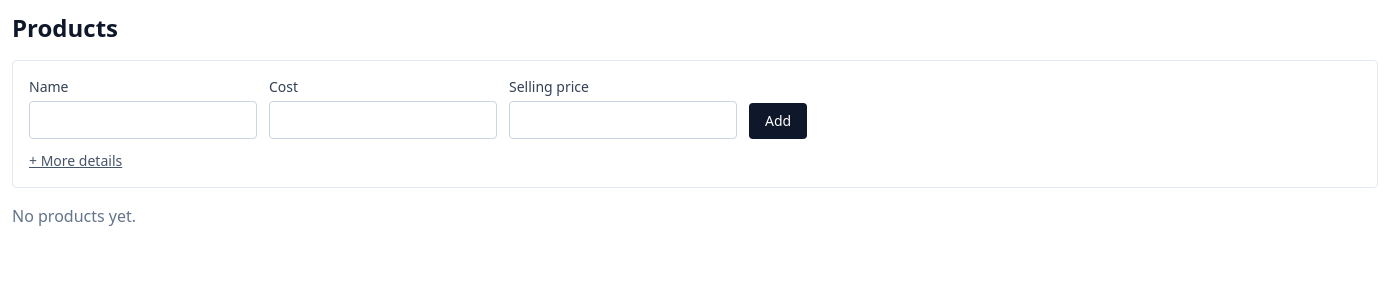
Test: ProductsListPage — inline add form › creates a product via the essentials-only form and shows the new row without a manual refetch
Expected: the text "No products yet." is shown, [12,205,136,227]
In the field labelled "Name": (143, 120) [29,101,257,139], type "Engraved keychain"
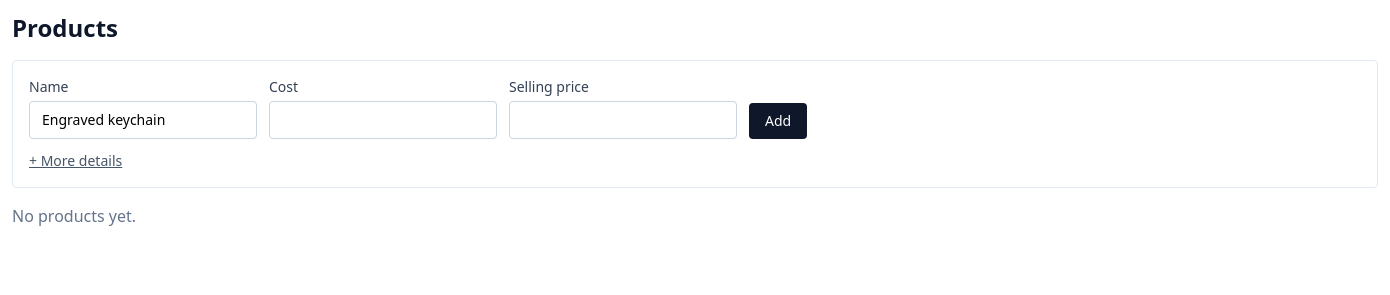
In the number field labelled "Cost": (383, 120) [269,101,497,139], type "30"
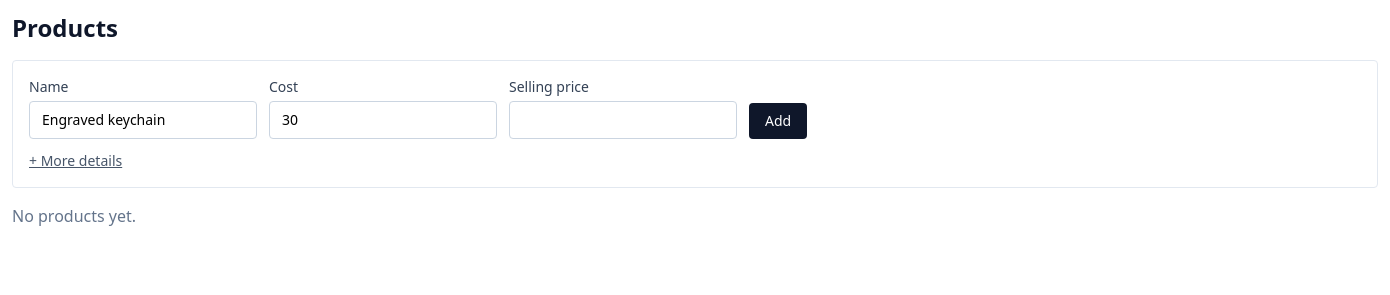
In the number field labelled "Selling price": (623, 120) [509,101,737,139], type "75"
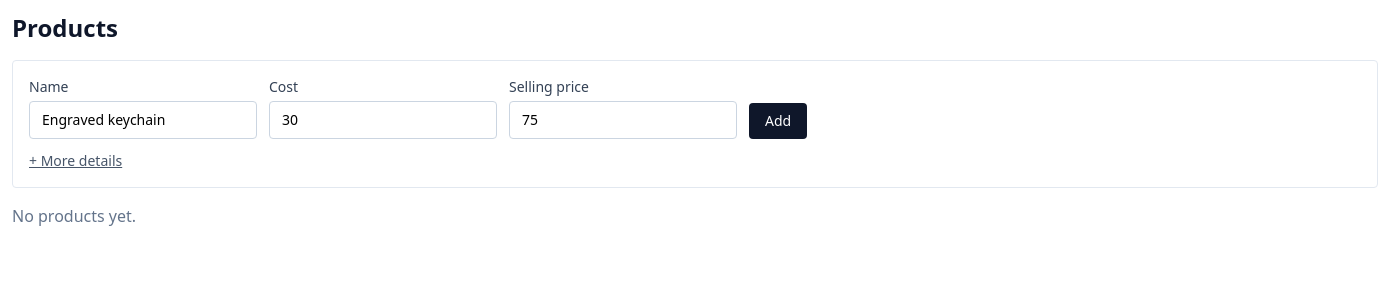
Click the button "Add": (778, 121) [749,103,807,139]
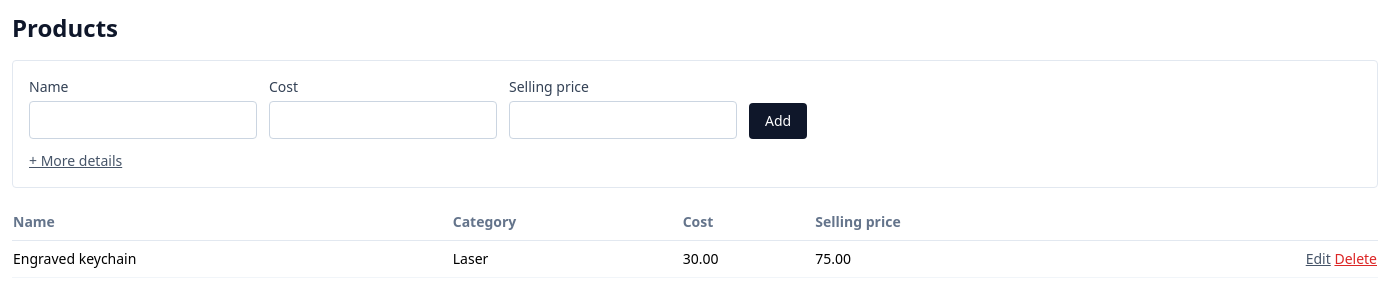
Now the text "Engraved keychain" is shown, box [12,240,452,278]
